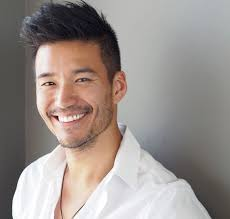asian_male: (19, 20, 130, 141)
